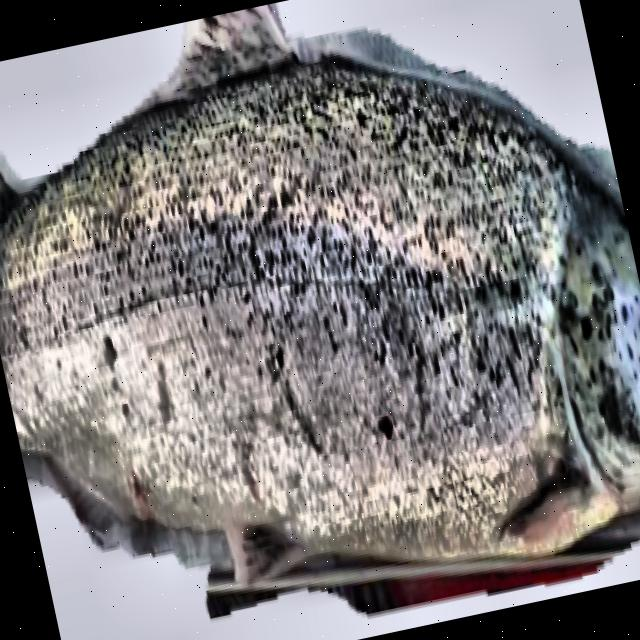mild_red: (0, 67, 590, 553)
